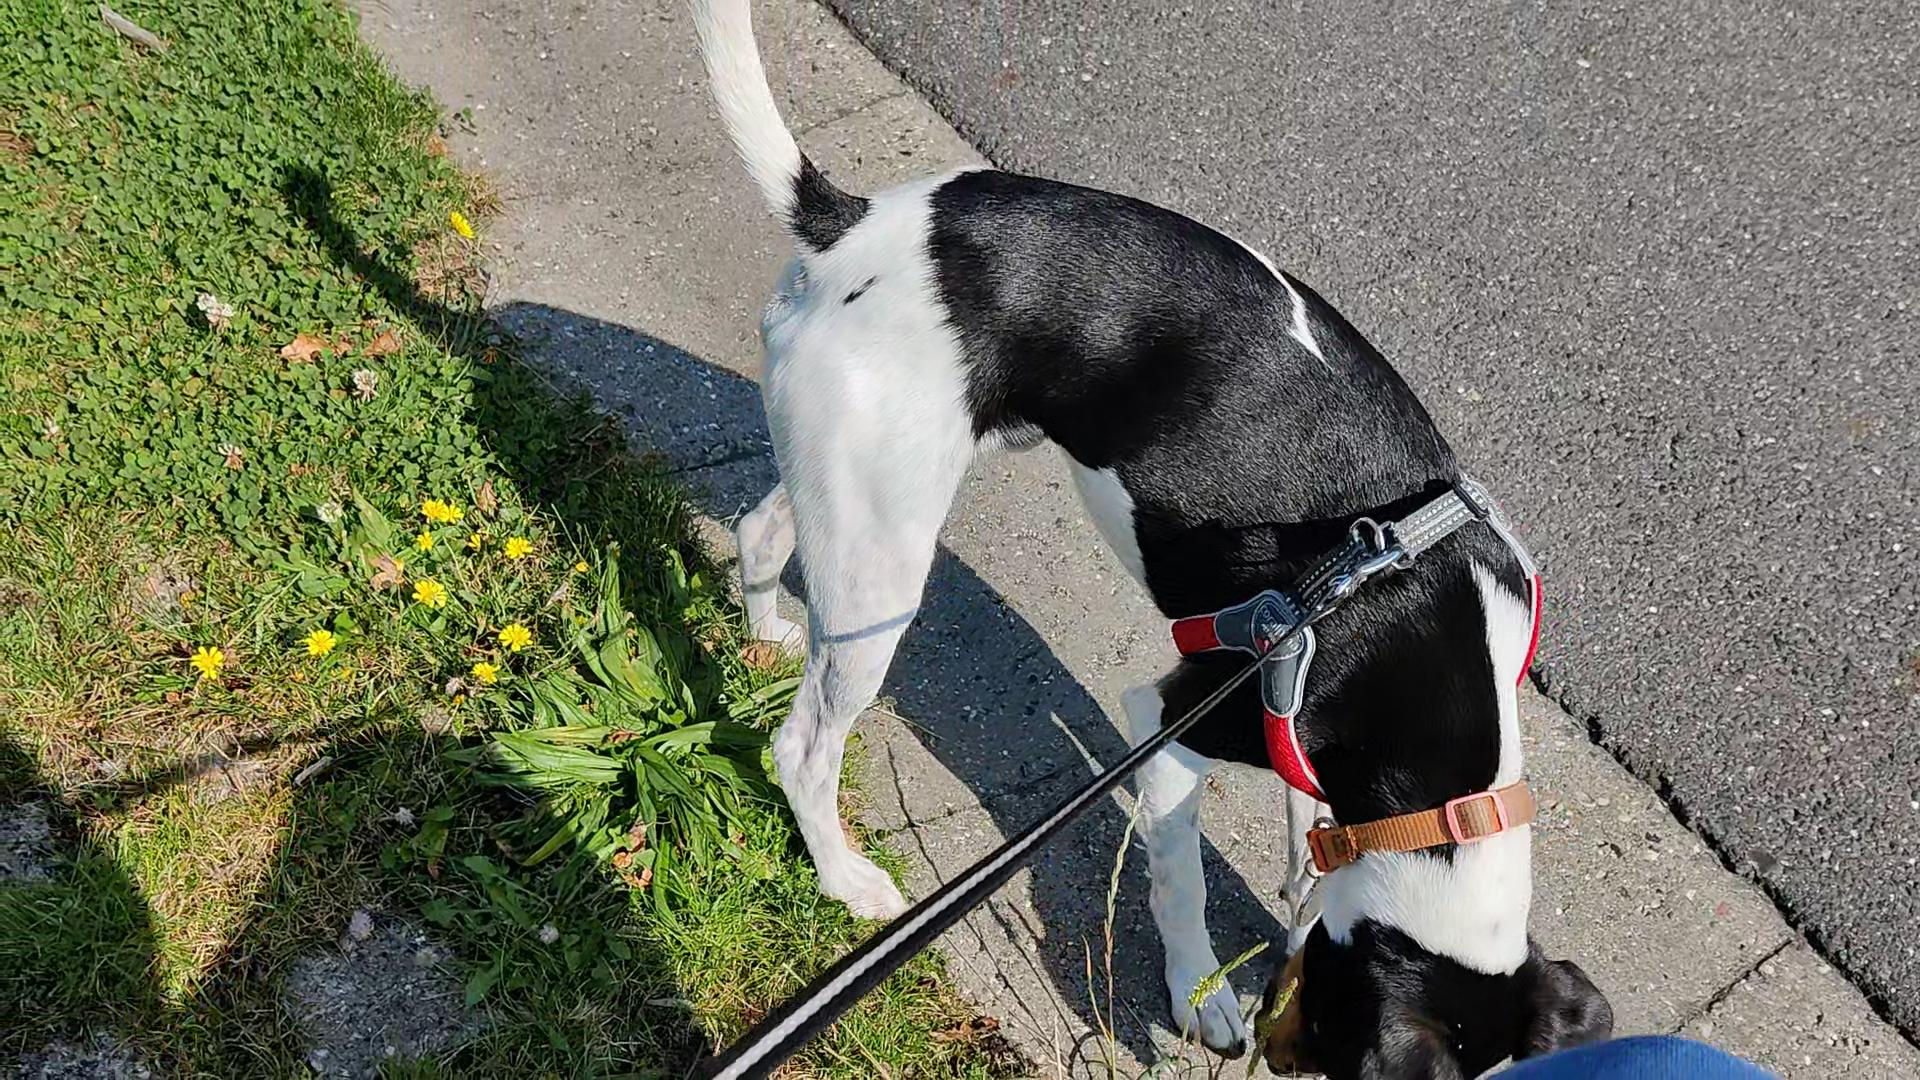Dog: (676, 0, 1627, 1080)
